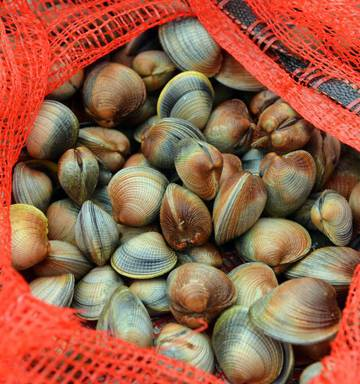cockle: (208, 305, 296, 384), (248, 277, 341, 342), (165, 262, 238, 329), (232, 215, 313, 272), (79, 60, 147, 126), (213, 170, 268, 248), (156, 180, 214, 251), (157, 20, 223, 79), (259, 150, 319, 214), (23, 98, 80, 165), (241, 218, 313, 269), (106, 165, 166, 226), (139, 117, 204, 171), (95, 286, 153, 345), (111, 229, 179, 278), (158, 70, 215, 128), (155, 322, 218, 373), (173, 138, 223, 199), (73, 200, 119, 266), (6, 200, 51, 267), (254, 99, 313, 150), (204, 96, 253, 156), (75, 264, 125, 321), (288, 245, 360, 284), (311, 188, 357, 246), (56, 145, 99, 205), (227, 262, 277, 312), (215, 48, 264, 96), (36, 238, 92, 278), (77, 125, 126, 170), (12, 161, 56, 209), (132, 45, 176, 89), (129, 273, 176, 314), (310, 126, 341, 185), (26, 272, 76, 307), (46, 195, 81, 245), (326, 152, 359, 201), (49, 63, 82, 99), (179, 249, 226, 267), (248, 88, 281, 112)
